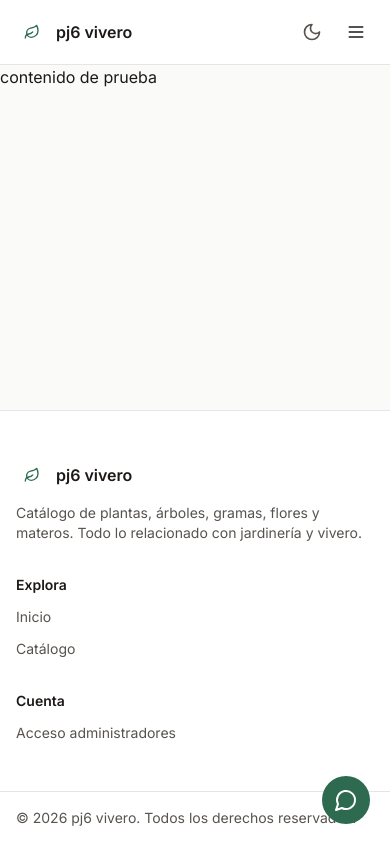
it: PublicLayout › abre el menú móvil como drawer con la navegación
capturar el trigger ANTES de abrir: Radix marca el resto con aria-hidden
What coordinates should you click on to do the following:
click the button named "Abrir menú"
I would click on:
 (356, 32)
Its box is [338,14,374,50].
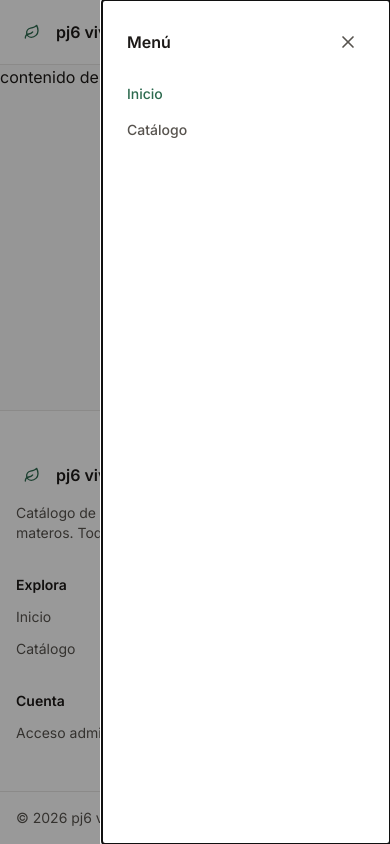
Expected: the dialog shows "Menú", [127,32,171,52]
Expected: the navigation bar named "Menú móvil" is shown, [127,85,187,138]
Expected: the button named "Cerrar menú" is shown, [330,24,366,60]
